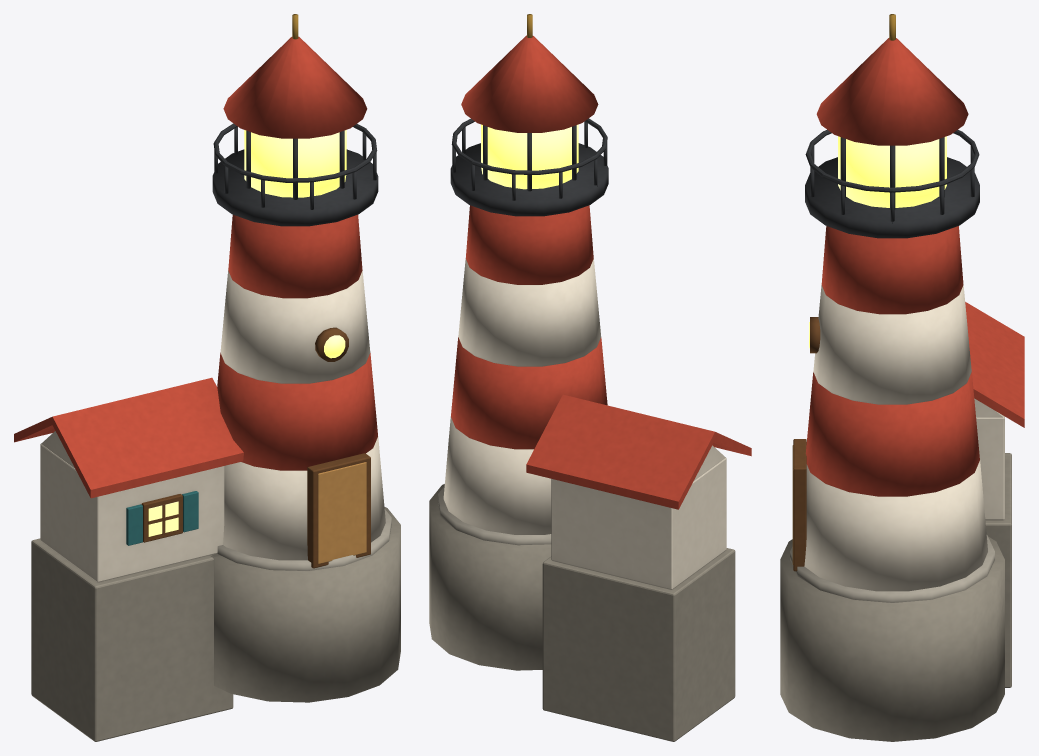
Rendered from lighthouse_v2.glb.
3 renders of one model, left to right at view 1: azimuth 30°, elevation 25°; view 2: azimuth 150°, elevation 25°; view 3: azimuth 270°, elevation 25°, orthographic. The views are drawn at different scales.
Visible parts, largest first — view 1: Shed_Plinth, LH_Plinth, Shed_Roof, Shed_Body, LH_Band_1, LH_Band_2, LH_Cupola, LH_Band_3, LH_Band_0, LH_Gallery, LH_LanternGlow, LH_DoorLeaf (+6 smaller); view 2: Shed_Plinth, Shed_Body, LH_Plinth, Shed_Roof, LH_Band_2, LH_Band_1, LH_Band_0, LH_Cupola, LH_Band_3, LH_Gallery, LH_LanternGlow, LH_PlinthRim (+1 smaller); view 3: LH_Plinth, LH_Band_0, LH_Band_1, LH_Band_2, LH_Cupola, LH_Band_3, LH_Gallery, LH_LanternGlow, Shed_Roof, LH_PlinthRim, Shed_Body, Shed_Plinth (+2 smaller).
Boxes of the visible parts, bbox=[...] form: Shed_Plinth: bbox=[31, 538, 233, 741]; LH_Plinth: bbox=[209, 506, 400, 702]; Shed_Roof: bbox=[14, 377, 243, 498]; Shed_Body: bbox=[40, 444, 224, 582]; LH_Band_1: bbox=[217, 352, 377, 470]; LH_Band_2: bbox=[220, 271, 370, 383]; LH_Cupola: bbox=[223, 36, 367, 138]; LH_Band_3: bbox=[228, 214, 362, 298]; LH_Band_0: bbox=[223, 436, 385, 560]; LH_Gallery: bbox=[212, 149, 378, 226]; LH_LanternGlow: bbox=[244, 130, 346, 197]; LH_DoorLeaf: bbox=[318, 462, 366, 563]; Shed_Plinth: bbox=[542, 548, 735, 741]; Shed_Body: bbox=[551, 458, 726, 589]; LH_Plinth: bbox=[429, 484, 551, 670]; Shed_Roof: bbox=[526, 394, 751, 509]; LH_Band_2: bbox=[458, 258, 601, 366]; LH_Band_1: bbox=[451, 337, 607, 449]; LH_Band_0: bbox=[443, 416, 551, 534]; LH_Cupola: bbox=[461, 35, 598, 132]; LH_Band_3: bbox=[465, 205, 593, 284]; LH_Gallery: bbox=[450, 143, 608, 216]; LH_LanternGlow: bbox=[481, 124, 578, 189]; LH_PlinthRim: bbox=[438, 486, 551, 545]; LH_Plinth: bbox=[780, 536, 1004, 741]; LH_Band_0: bbox=[804, 460, 987, 591]; LH_Band_1: bbox=[805, 372, 979, 496]; LH_Band_2: bbox=[813, 285, 971, 404]; LH_Cupola: bbox=[816, 38, 968, 145]; LH_Band_3: bbox=[821, 226, 963, 314]; LH_Gallery: bbox=[805, 157, 979, 238]; LH_LanternGlow: bbox=[838, 136, 946, 207]; Shed_Roof: bbox=[965, 302, 1024, 427]; LH_PlinthRim: bbox=[790, 535, 994, 602]; Shed_Body: bbox=[976, 416, 1004, 520]; Shed_Plinth: bbox=[985, 453, 1011, 687].
Bounding box in the file's own units: 4.59 × 9.47 × 2.96.
3 materials, 1 textured.
